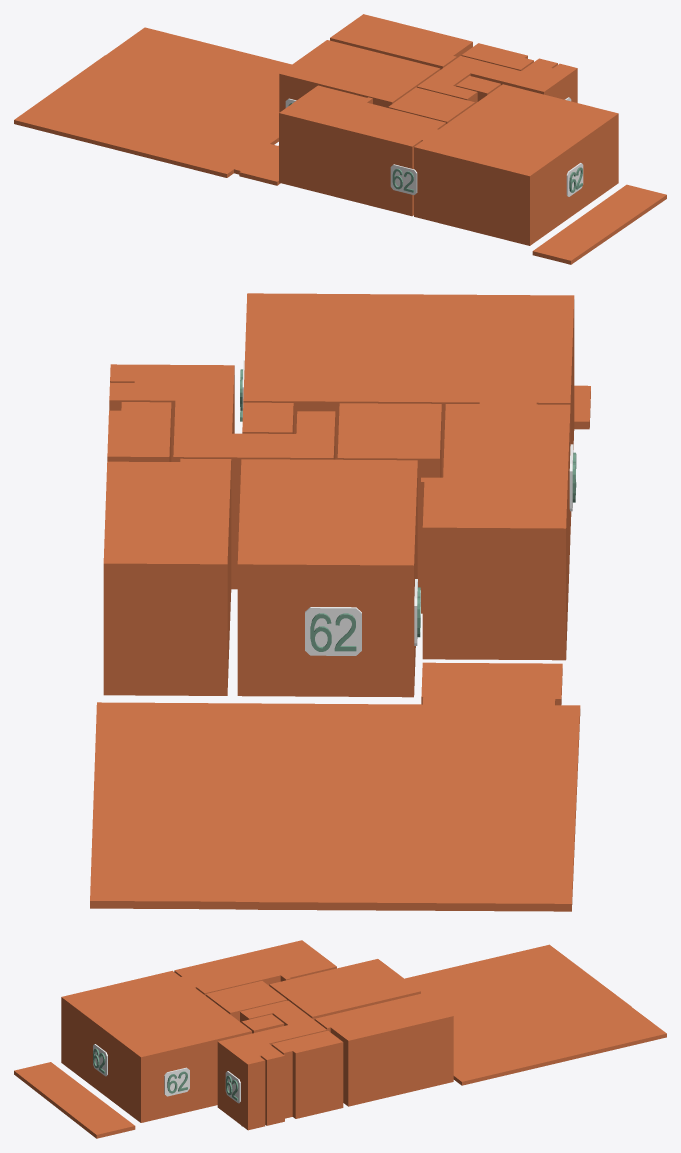
3 views of the same model, one above another, from view 1: azimuth 30°, elevation 25°; view 2: azimuth 150°, elevation 25°; view 3: azimuth 270°, elevation 25° (orthographic). The views are drawn at different scales.
Parts seen in each view (by area): view 1: g_8, g_7, g_2, g_1, g_9, g_5, g_0, g_3, g_6, g_4, g_12; view 2: g_8, g_1, g_7, g_2, g_0, g_5, g_3, g_6, g_21, g_4; view 3: g_8, g_7, g_0, g_5, g_1, g_6, g_2, g_9, g_3, g_4, g_24.
Part boxes in pixels (x1=…): g_8: x1=14, y1=27, x2=291, y2=185; g_7: x1=414, y1=84, x2=618, y2=245; g_2: x1=279, y1=85, x2=446, y2=216; g_1: x1=279, y1=40, x2=440, y2=112; g_9: x1=532, y1=184, x2=666, y2=264; g_5: x1=417, y1=56, x2=577, y2=103; g_0: x1=330, y1=14, x2=472, y2=69; g_3: x1=388, y1=87, x2=474, y2=123; g_6: x1=461, y1=43, x2=533, y2=70; g_4: x1=456, y1=76, x2=500, y2=101; g_12: x1=390, y1=164, x2=417, y2=194; g_8: x1=90, y1=662, x2=580, y2=911; g_1: x1=237, y1=459, x2=417, y2=697; g_7: x1=243, y1=293, x2=574, y2=534; g_2: x1=421, y1=403, x2=570, y2=660; g_0: x1=103, y1=458, x2=231, y2=695; g_5: x1=109, y1=364, x2=335, y2=589; g_3: x1=337, y1=403, x2=441, y2=589; g_6: x1=107, y1=402, x2=171, y2=461; g_21: x1=305, y1=607, x2=361, y2=655; g_4: x1=242, y1=402, x2=293, y2=433; g_8: x1=405, y1=944, x2=666, y2=1085; g_7: x1=61, y1=970, x2=251, y2=1122; g_0: x1=314, y1=993, x2=453, y2=1106; g_5: x1=217, y1=1000, x2=326, y2=1130; g_1: x1=269, y1=959, x2=420, y2=1019; g_6: x1=271, y1=1030, x2=343, y2=1118; g_2: x1=174, y1=940, x2=336, y2=995; g_9: x1=14, y1=1062, x2=135, y2=1138; g_3: x1=205, y1=981, x2=286, y2=1021; g_4: x1=241, y1=1014, x2=284, y2=1033; g_24: x1=164, y1=1067, x2=189, y2=1096.
Size of the model in its own units: 15.96 by 2.74 by 23.14.
